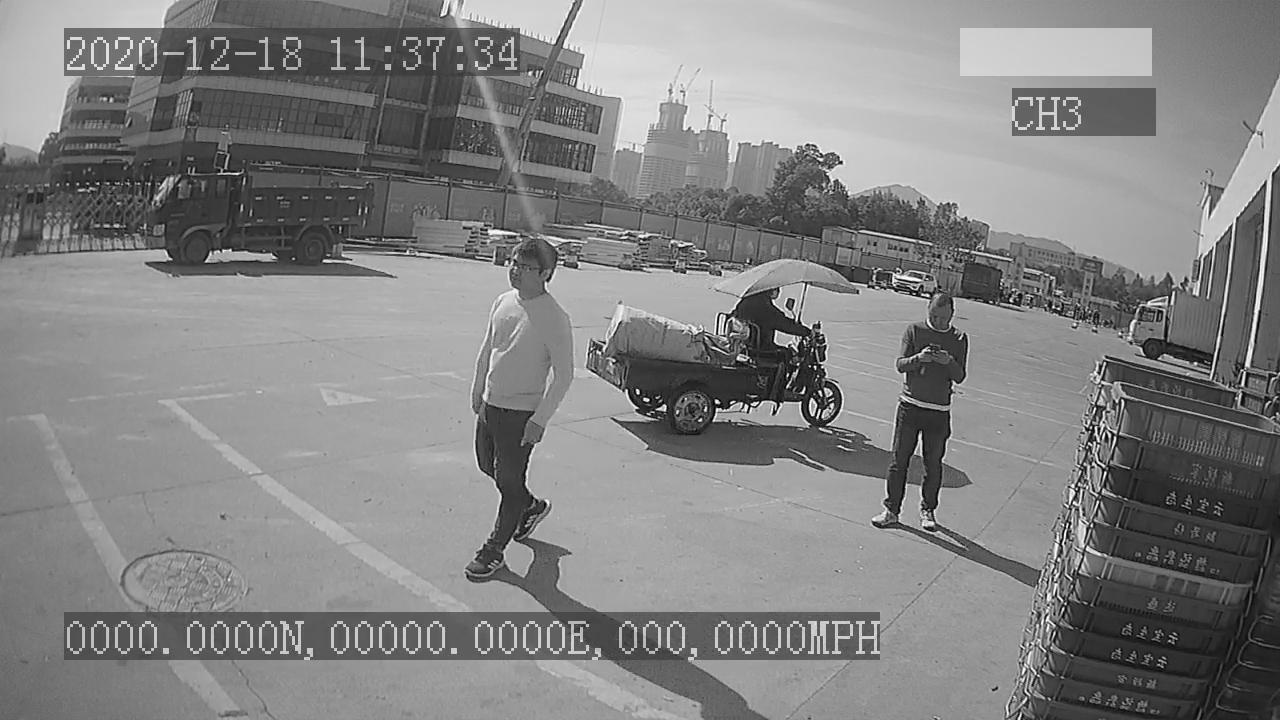person: (870, 290, 971, 536)
